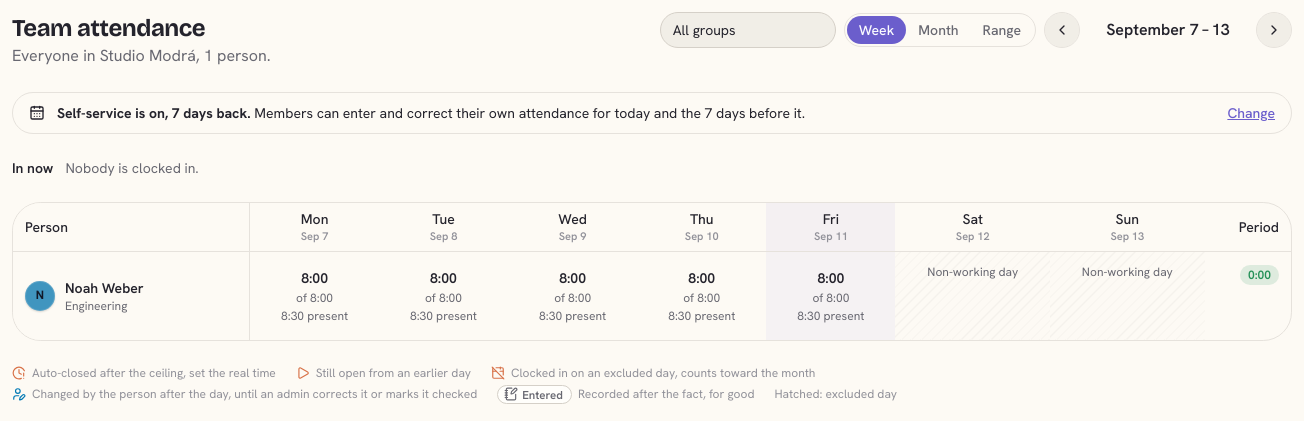
TeamAttendanceScreen › refuses a custom range that is inside out or longer than a quarter, and asks nothing
Click the tab "Range" at (1002, 30), box x1=971 y1=16 x2=1033 y2=44
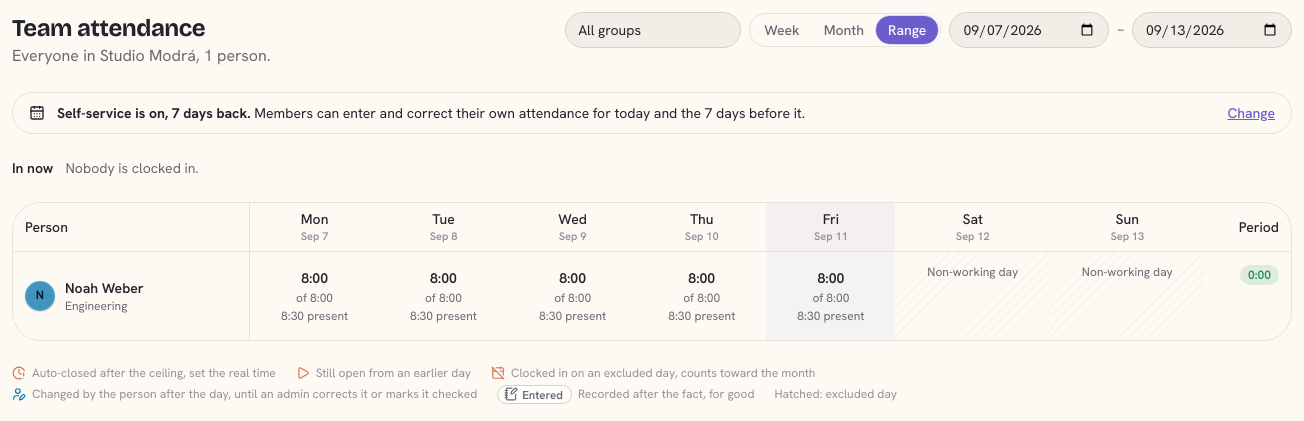
Type "2020-01-01" into the 2nd date field named "To" at (1212, 30), box x1=1132 y1=12 x2=1292 y2=48
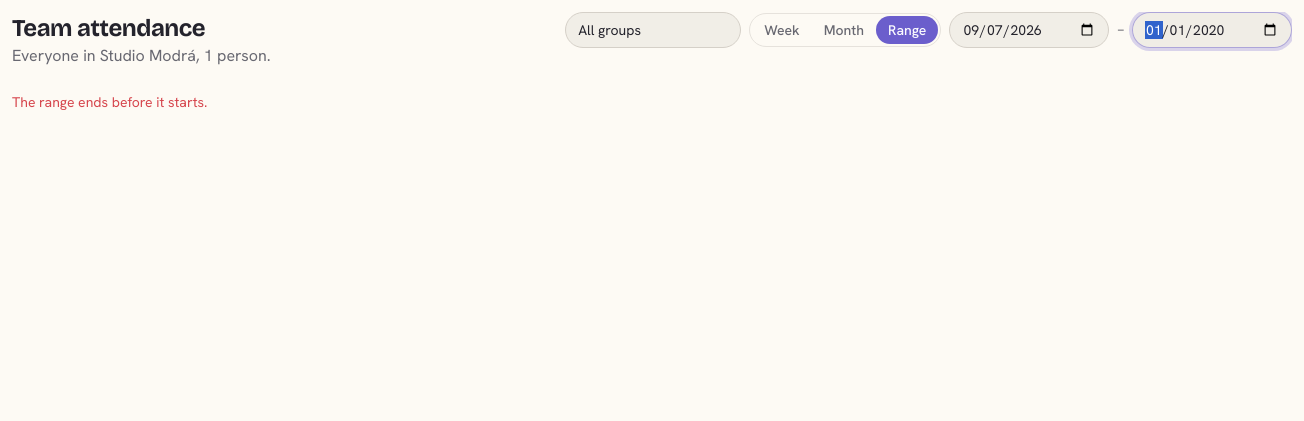
expect the text "The range ends before it starts." is shown: met, box x1=12 y1=93 x2=207 y2=111
Type "2020-01-01" into the 1st date field named "From" at (1029, 30), box x1=949 y1=12 x2=1109 y2=48
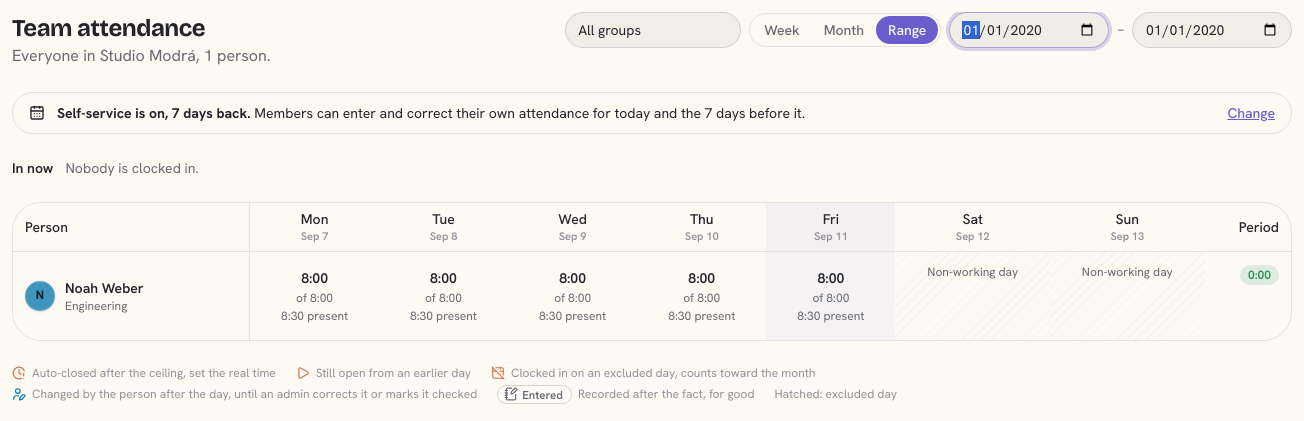
Type "2020-12-31" into the 2nd date field named "To" at (1212, 30), box x1=1132 y1=12 x2=1292 y2=48
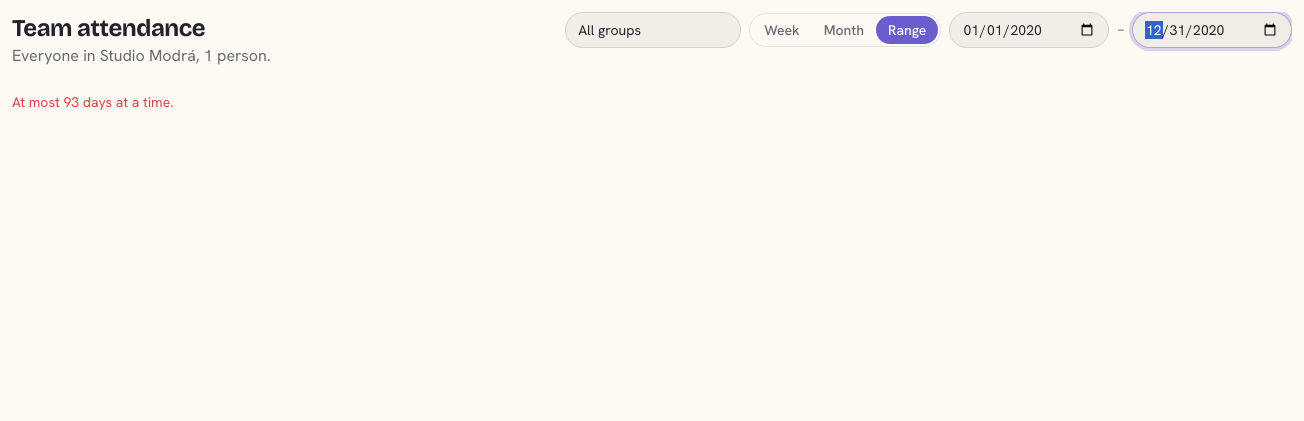
expect the text "At most 93 days at a time." is shown: met, box x1=12 y1=93 x2=174 y2=111
